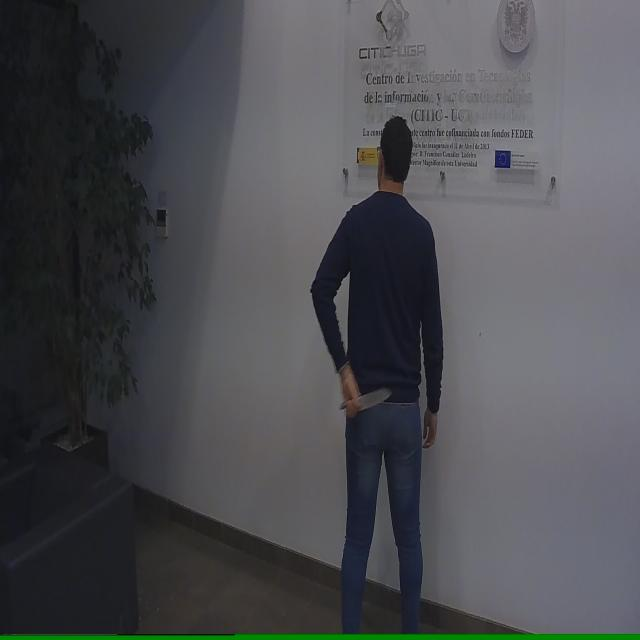knife: (336, 380, 394, 425)
